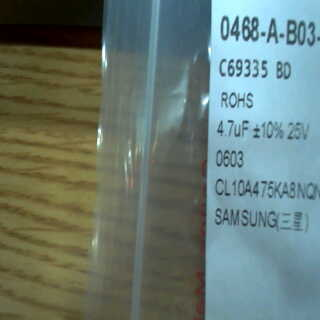4.7uF: (214, 116, 252, 143)
